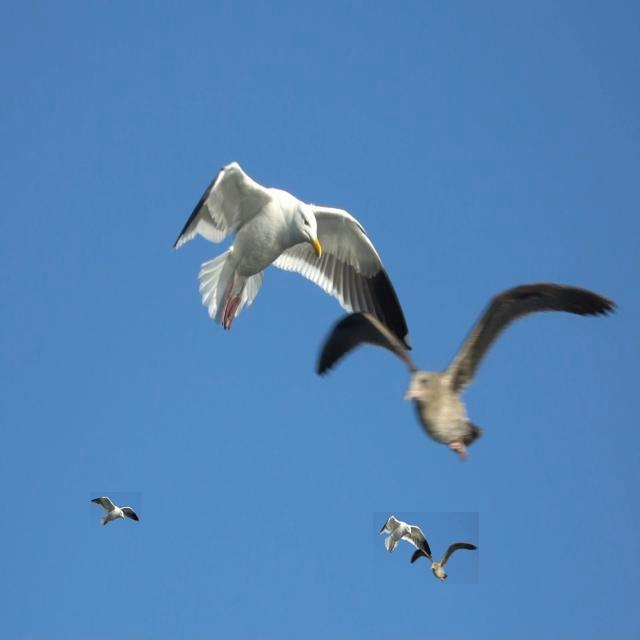bird: (317, 277, 622, 466), (169, 157, 418, 356), (409, 541, 482, 583), (380, 516, 432, 562), (94, 496, 140, 526)
